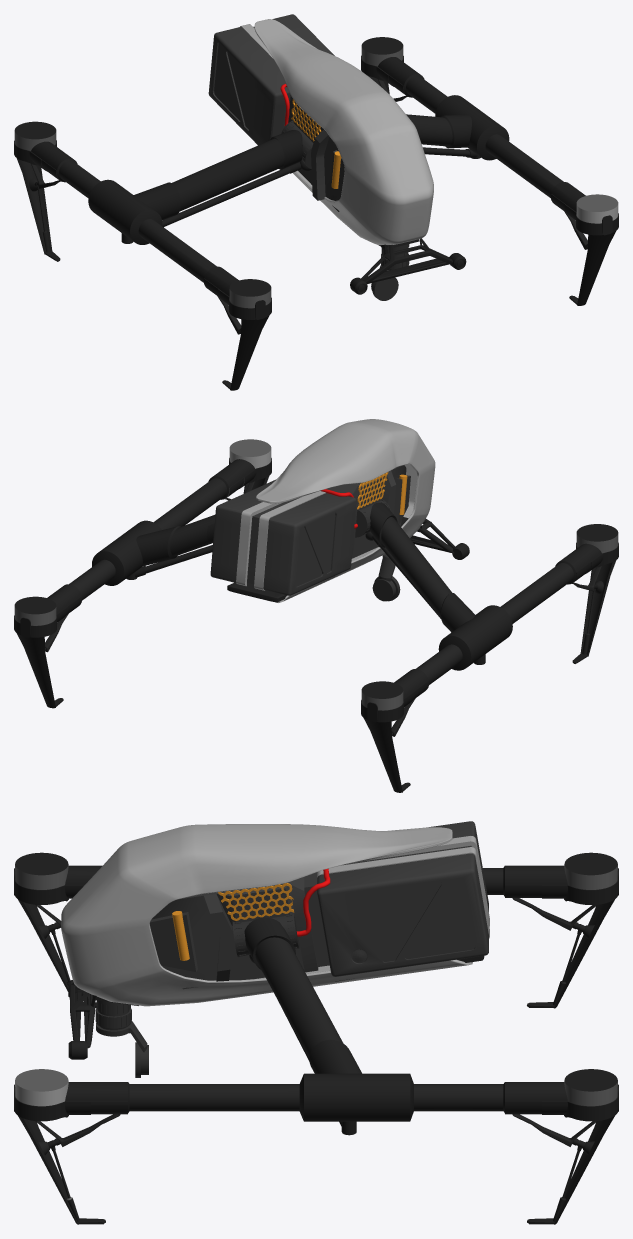
3 views of the same model, one above another, from view 1: azimuth 30°, elevation 25°; view 2: azimuth 150°, elevation 25°; view 3: azimuth 270°, elevation 25° (orthographic). The views are drawn at different scales.
Parts seen in each view (by area): view 1: Carcasa, Brazo1.001, Caja, Brazo1, Soporte1, Soporte2, Soporte4, Cube, Soporte3, SoporteBrazo1; view 2: Caja, Brazo1.001, Carcasa, Brazo1, Soporte4, Soporte3, Soporte2, Soporte1, Cube, SoporteBrazo1.001, HoneyComb.001, CajaCir.001 (+1 smaller); view 3: Carcasa, Caja, Brazo1, Soporte3, Soporte1, Soporte4, Soporte2, Brazo1.001, HoneyComb.001, Cube, Circle.005, Eje1.
Part boxes in pixels (x1,y1,x2,y2): Carcasa: [254, 19, 433, 245]; Brazo1.001: [31, 130, 302, 296]; Caja: [208, 14, 344, 211]; Brazo1: [378, 57, 585, 211]; Soporte1: [550, 194, 618, 305]; Soporte2: [203, 278, 271, 390]; Soporte4: [14, 121, 65, 261]; Cube: [361, 238, 452, 283]; Soporte3: [361, 37, 412, 101]; SoporteBrazo1: [121, 160, 311, 243]; Caja: [210, 465, 410, 595]; Brazo1.001: [370, 502, 601, 698]; Carcasa: [256, 419, 435, 602]; Brazo1: [47, 459, 254, 614]; Soporte4: [361, 680, 429, 792]; Soporte3: [14, 596, 82, 708]; Soporte2: [567, 524, 618, 663]; Soporte1: [220, 439, 271, 500]; Cube: [410, 519, 454, 553]; SoporteBrazo1.001: [126, 545, 212, 579]; HoneyComb.001: [357, 472, 388, 509]; CajaCir.001: [227, 576, 335, 602]; Carcasa: [61, 824, 472, 1006]; Caja: [150, 821, 489, 989]; Brazo1: [65, 917, 567, 1121]; Soporte3: [505, 1069, 618, 1224]; Soporte1: [14, 1069, 127, 1224]; Soporte4: [505, 852, 618, 1008]; Soporte2: [14, 852, 96, 1007]; Brazo1.001: [65, 865, 567, 896]; HoneyComb.001: [218, 883, 294, 920]; Cube: [69, 982, 96, 1048]; Circle.005: [95, 1000, 131, 1029]; Eje1: [232, 912, 299, 957].
Size of the model in its own units: 2.86 by 1.57 by 3.06.
